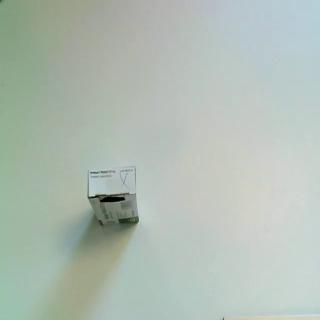nobligan_retard200mg: (87, 166, 142, 228)
